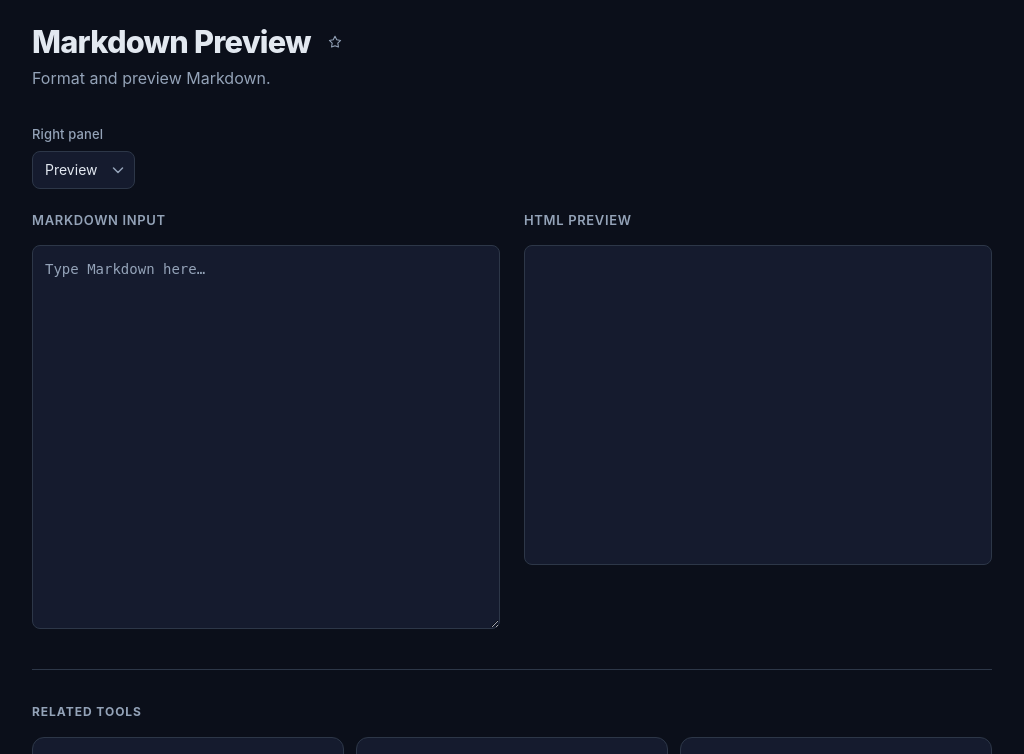
Test: MarkdownPreview › switches to format mode
The width and height of the screenshot is (1024, 754).
Select "Format" in the dropdown labelled "Right panel" at (84, 170), box [32,150,135,188]
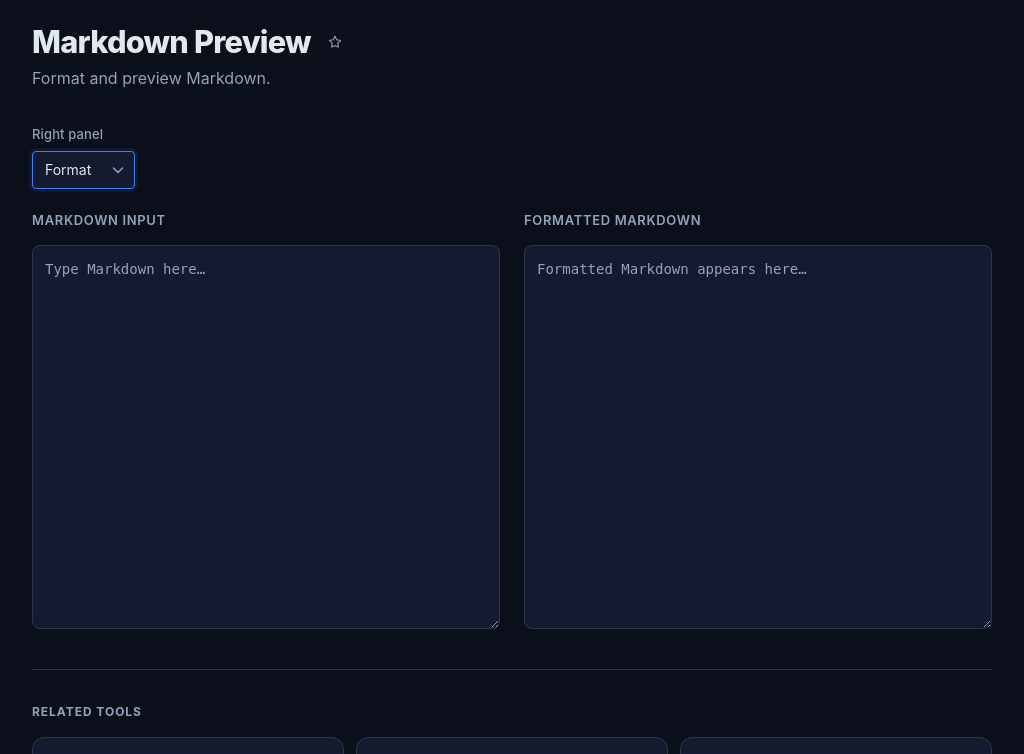
Expected: the text box labelled "Formatted Markdown appears here…" is shown, [524,244,992,629]
